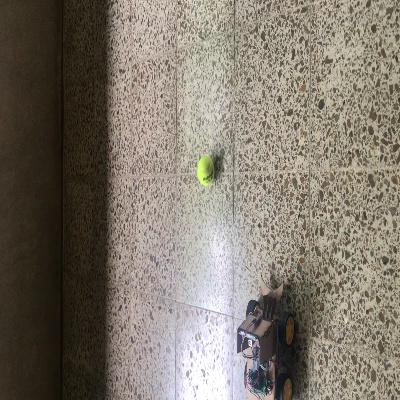Ball: (195, 156, 215, 185)
Robot: (235, 270, 295, 399)
